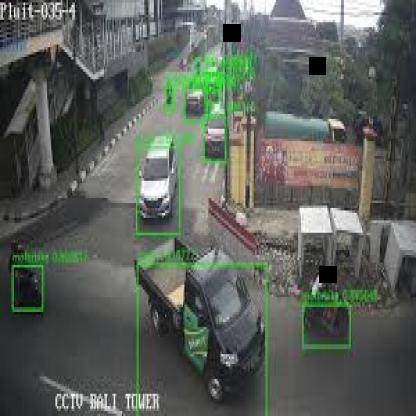car: (128, 238, 280, 416), (134, 124, 180, 240), (6, 258, 48, 328), (307, 298, 349, 350), (204, 104, 226, 158), (183, 76, 209, 118), (166, 82, 173, 106)
